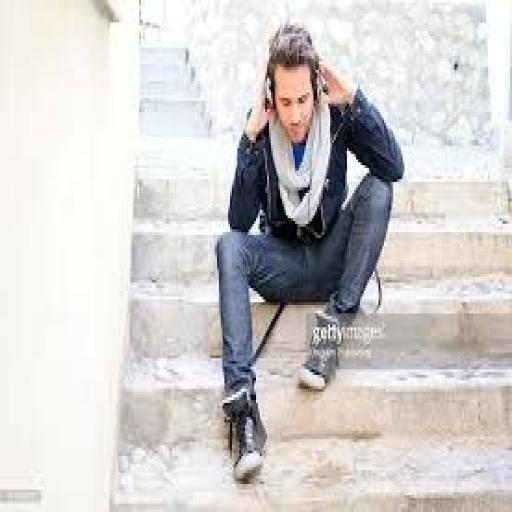listening_to_music: (213, 20, 408, 484)
